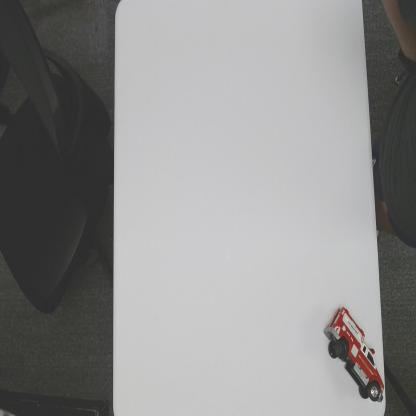Firetruck: (323, 303, 385, 405)
